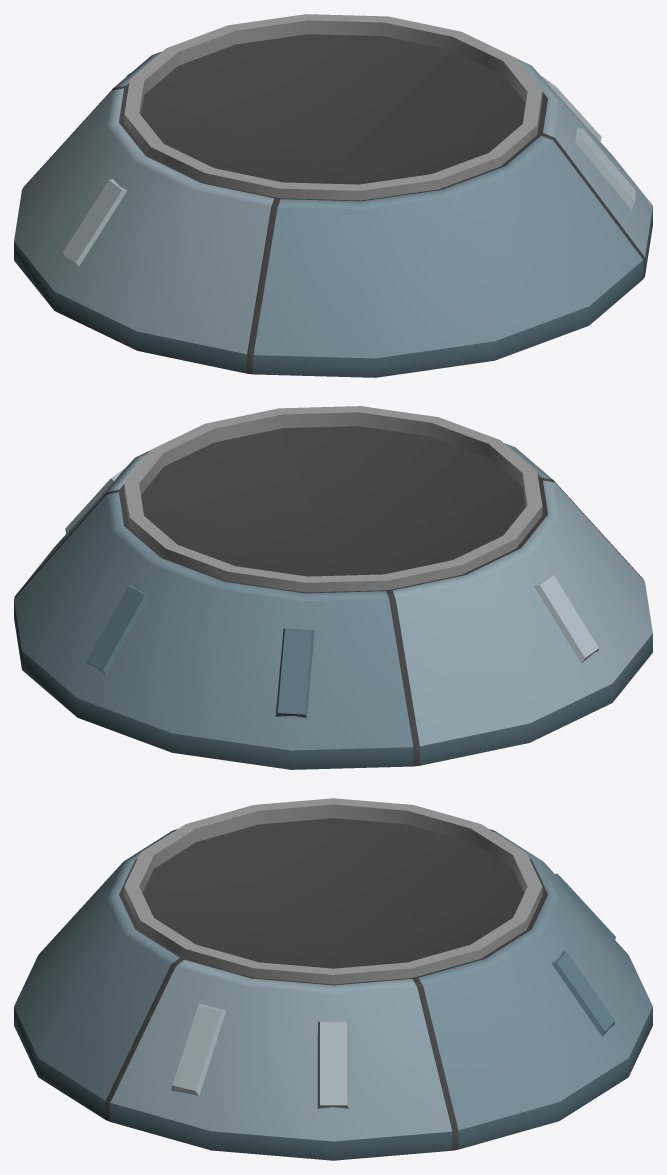
Rendered from turret_006.fbx.
3 views of the same model, one above another, from view 1: azimuth 30°, elevation 25°; view 2: azimuth 150°, elevation 25°; view 3: azimuth 270°, elevation 25° (orthographic).
Visible parts, largest first — view 1: turret_006; view 2: turret_006; view 3: turret_006.
Part boxes in pixels (x1,y1,x2,y2): turret_006: (14, 14, 652, 377); turret_006: (14, 406, 652, 769); turret_006: (14, 798, 652, 1160).
Size of the model in its own units: 664 by 664 by 159.
